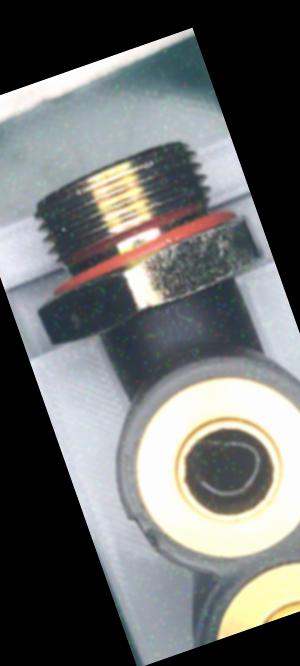bump: (120, 499, 169, 566)
joint line: (168, 322, 184, 350)
off-centered: (170, 417, 283, 519)
white mark: (172, 298, 204, 332), (162, 305, 174, 321)
